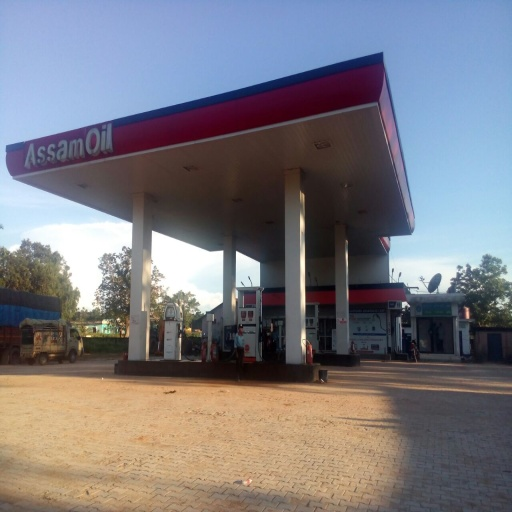roof: (9, 55, 415, 252)
